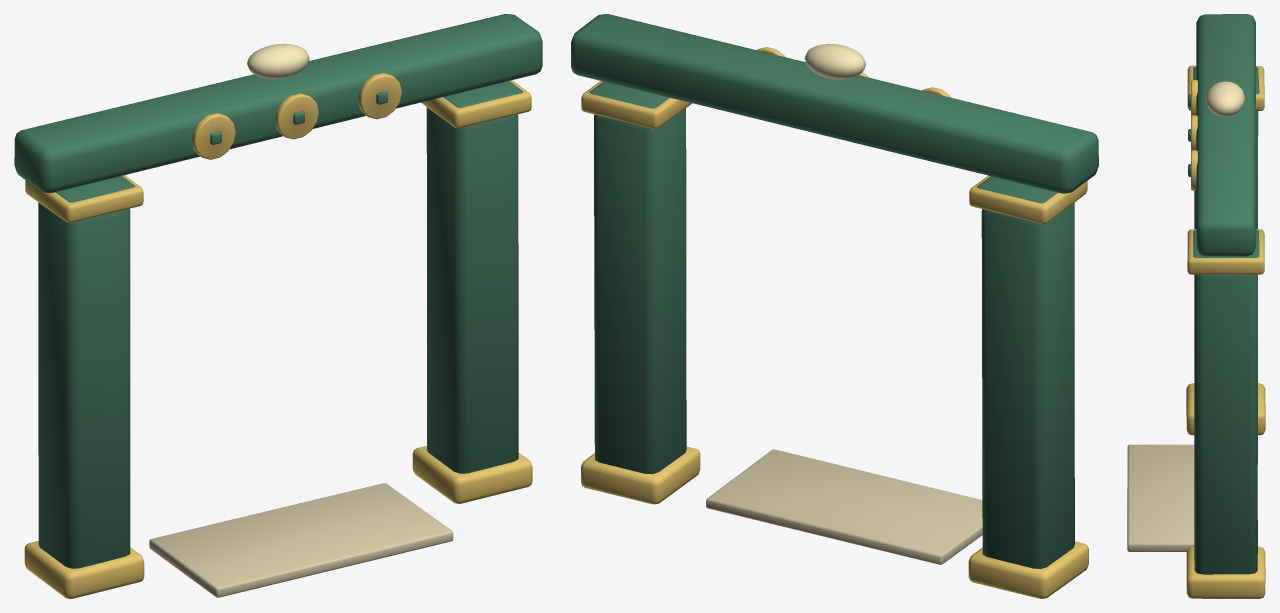
3 renders of one model, left to right at view 1: azimuth 30°, elevation 25°; view 2: azimuth 150°, elevation 25°; view 3: azimuth 270°, elevation 25°, orthographic. The views are drawn at different scales.
Parts seen in each view (by area): view 1: gate_640f5c95; view 2: gate_640f5c95; view 3: gate_640f5c95.
Part boxes in pixels (x1,y1,x2,y2): gate_640f5c95: [14, 14, 542, 598]; gate_640f5c95: [571, 14, 1098, 598]; gate_640f5c95: [1127, 14, 1265, 598].
Bounding box in the file's own units: 5.08 × 4.66 × 1.4.
